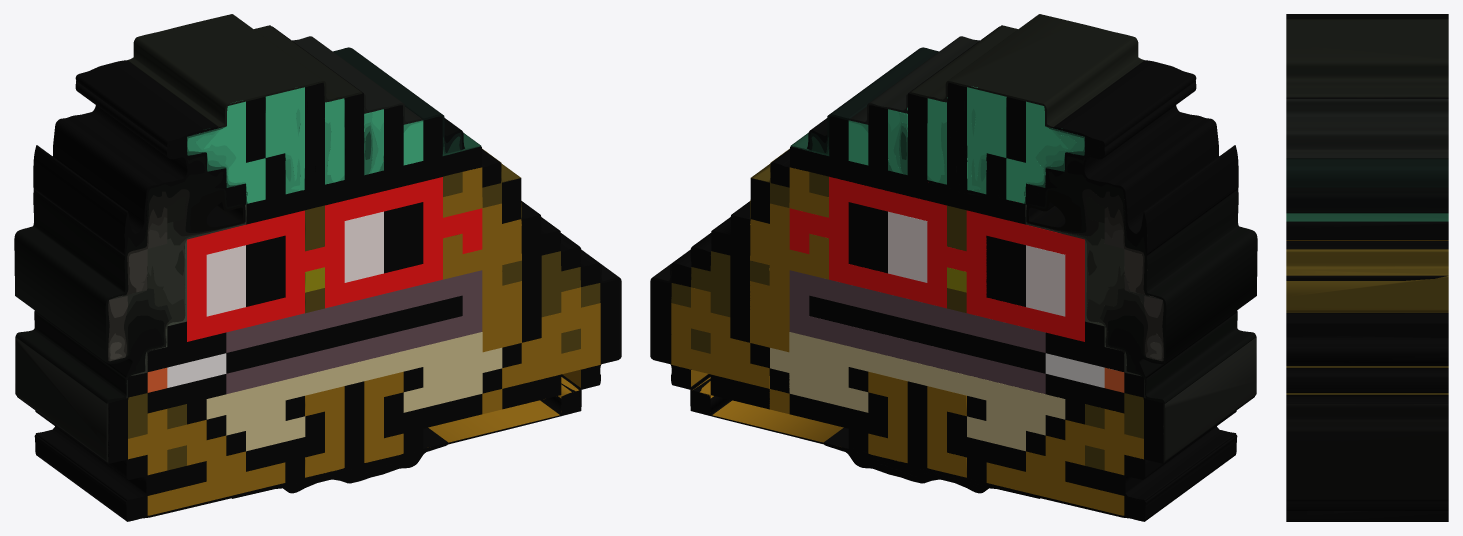
File: Toadz_6510.glb
3 renders of one model, left to right at view 1: azimuth 30°, elevation 25°; view 2: azimuth 150°, elevation 25°; view 3: azimuth 270°, elevation 25°, orthographic. The views are drawn at different scales.
Visible parts, largest first — view 1: Curve; view 2: Curve; view 3: Curve.
Boxes of the visible parts, left/top/right/bottom form: Curve: left=14, top=14, right=621, bottom=521; Curve: left=650, top=14, right=1257, bottom=521; Curve: left=1286, top=14, right=1448, bottom=521.
Size of the model in its own units: 3.26 by 2.47 by 1.
